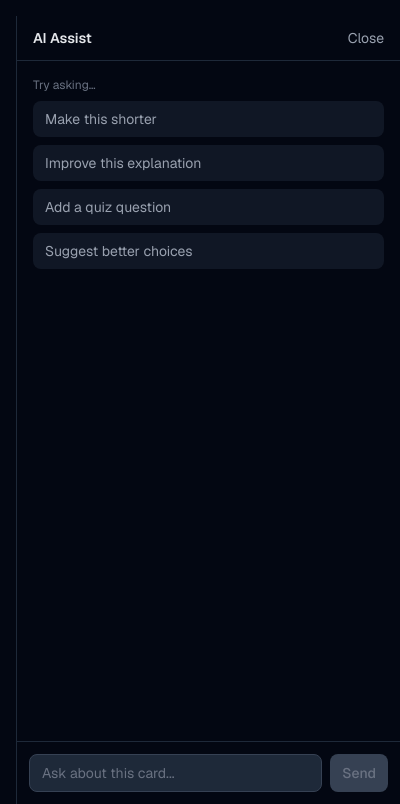
Test case: AIChatPanel streaming › re-enables input after fetch error
This screenshot has width=400, height=804.
Click the button "Improve this explanation" at (123, 163), box [33,145,384,181]
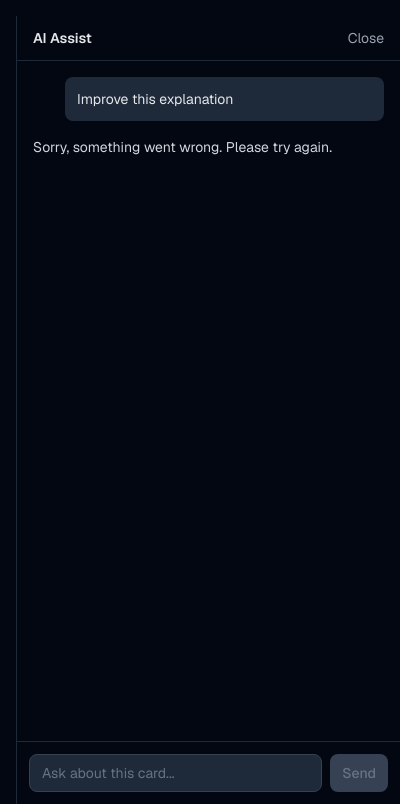
Expected: the field with placeholder "Ask about this card..." is enabled, [29,754,322,792]
Expected: the text "Sorry, something went wrong. Please try again." is shown, [33,137,384,157]
